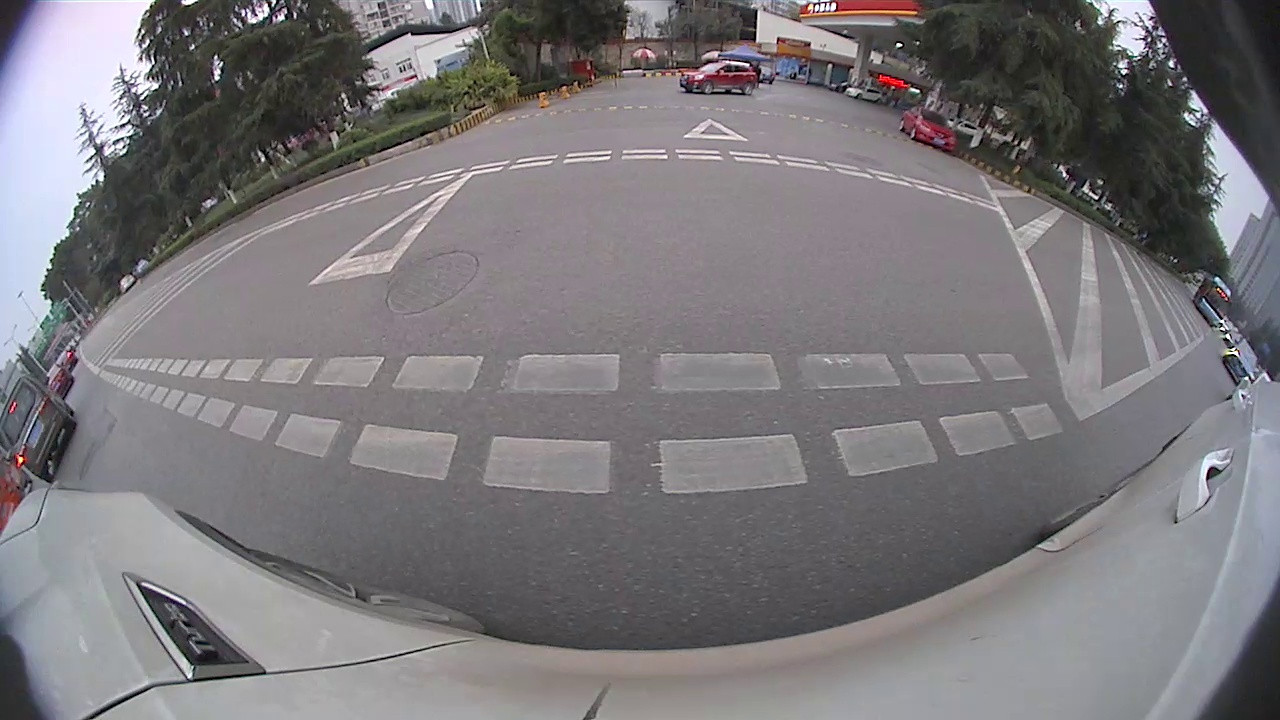bus: (1193, 267, 1237, 327)
car: (1, 372, 81, 483), (678, 49, 760, 98), (895, 102, 964, 155), (1219, 336, 1265, 385)
front: (702, 79, 714, 94)
rear: (743, 81, 755, 96)
